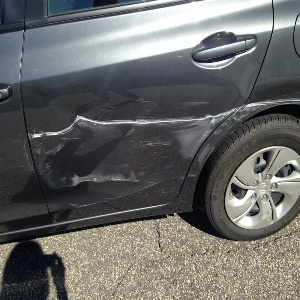door_scratch: (17, 104, 206, 214)
